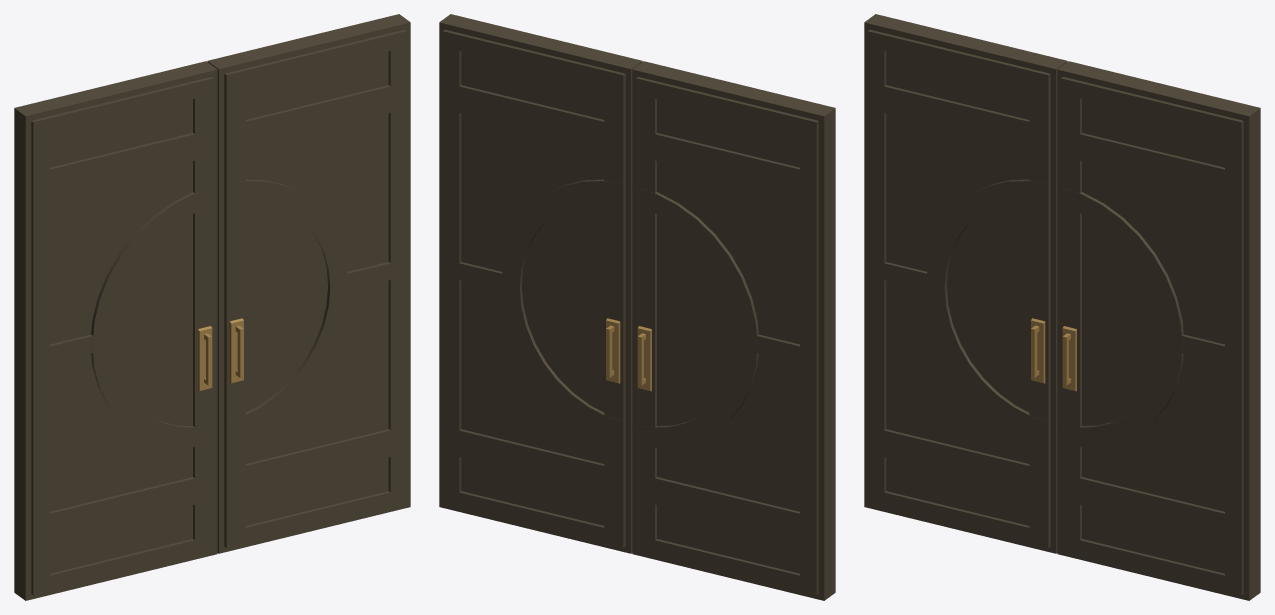
Rendered from Q_DoorDouble.glb.
3 renders of one model, left to right at view 1: azimuth 30°, elevation 25°; view 2: azimuth 150°, elevation 25°; view 3: azimuth 330°, elevation 25°, orthographic.
Parts seen in each view (by area): view 1: Door_DoubleLeft, Door_DoubleRight; view 2: Door_DoubleLeft, Door_DoubleRight; view 3: Door_DoubleRight, Door_DoubleLeft.
Part boxes in pixels (x1,y1,x2,y2): Door_DoubleLeft: [14, 61, 217, 600]; Door_DoubleRight: [207, 14, 410, 553]; Door_DoubleLeft: [632, 61, 835, 600]; Door_DoubleRight: [439, 14, 642, 553]; Door_DoubleRight: [1057, 61, 1260, 600]; Door_DoubleLeft: [864, 14, 1067, 553].
Bounding box in the file's own units: 3.48 × 4.19 × 0.4298.
